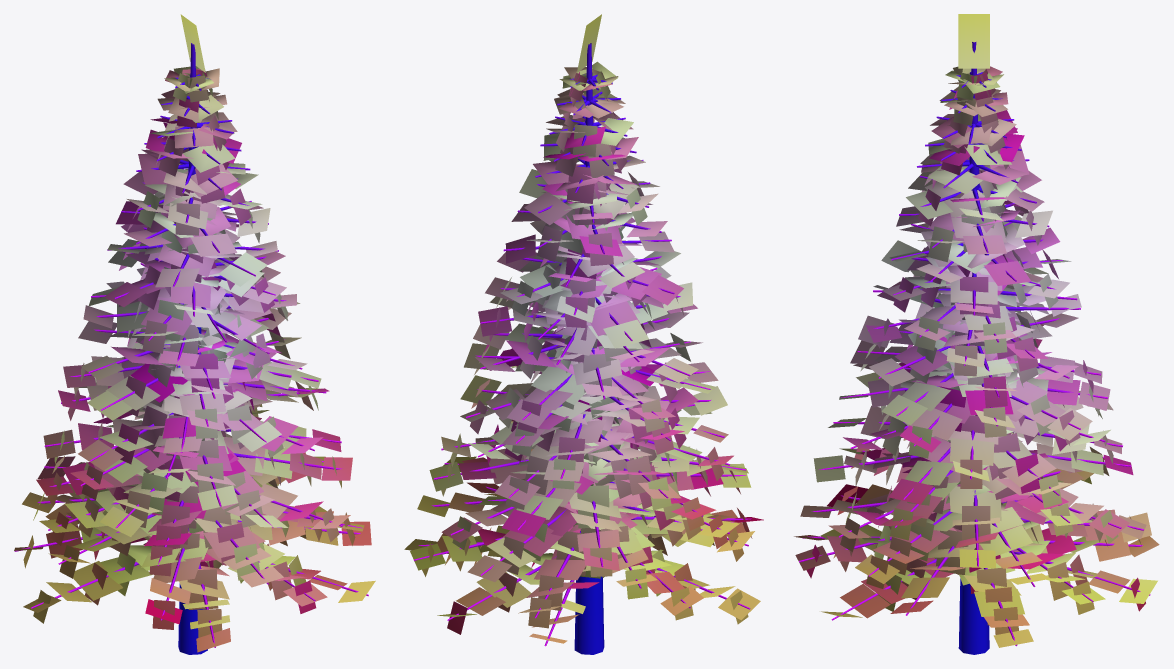
File: fir_a_LODs.glb
3 renders of one model, left to right at view 1: azimuth 30°, elevation 25°; view 2: azimuth 150°, elevation 25°; view 3: azimuth 270°, elevation 25°, orthographic.
Parts seen in each view (by area): view 1: fir_a_LOD0; view 2: fir_a_LOD0; view 3: fir_a_LOD0.
Part boxes in pixels (left/top/right/bottom): fir_a_LOD0: left=14, top=14, right=375, bottom=654; fir_a_LOD0: left=404, top=14, right=763, bottom=654; fir_a_LOD0: left=794, top=14, right=1159, bottom=654.
Size of what is drawn, in the model's own units: 10.68 by 19.78 by 10.4.
